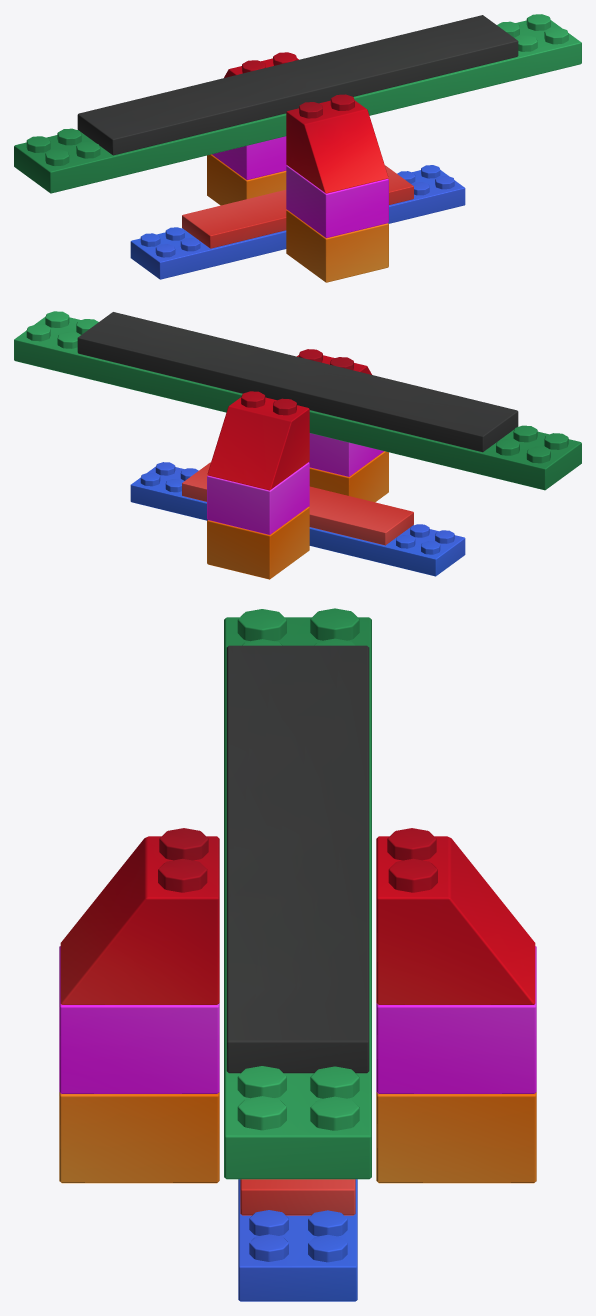
Rendered from engeller.fbx.
The picture shows the model from 3 angles, top to bottom: view 1: azimuth 30°, elevation 25°; view 2: azimuth 150°, elevation 25°; view 3: azimuth 270°, elevation 25°; orthographic projection. The views are drawn at different scales.
Parts seen in each view (by area): view 1: engel_tahterevalli_ust, engel_tahterevalli, engel_rotate; view 2: engel_tahterevalli_ust, engel_tahterevalli, engel_rotate; view 3: engel_tahterevalli, engel_tahterevalli_ust, engel_rotate.
Part boxes in pixels (<box>): engel_tahterevalli_ust: <box>14,14,581,193</box>; engel_tahterevalli: <box>207,52,388,282</box>; engel_rotate: <box>130,165,465,279</box>; engel_tahterevalli_ust: <box>14,311,581,490</box>; engel_tahterevalli: <box>207,349,388,579</box>; engel_rotate: <box>130,462,465,576</box>; engel_tahterevalli: <box>59,828,536,1183</box>; engel_tahterevalli_ust: <box>224,608,371,1179</box>; engel_rotate: <box>238,1179,357,1301</box>.
Size of the model in its own units: 10 by 2.79 by 3.89.
